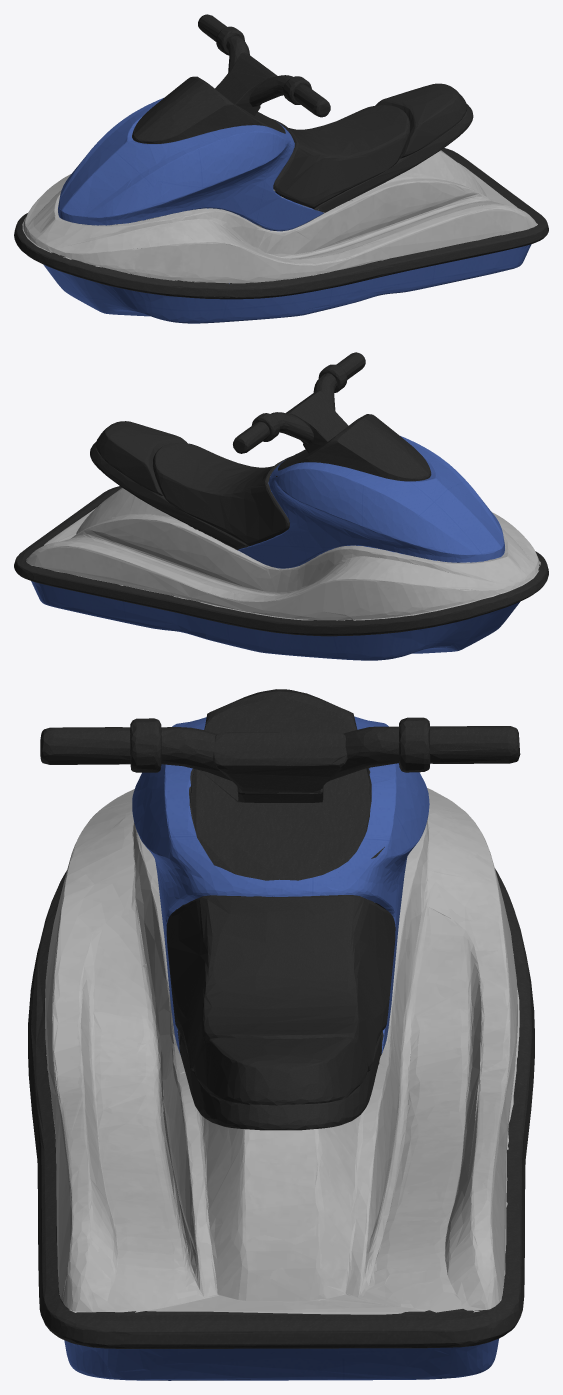
File: jetski_02.glb
The picture shows the model from 3 angles, top to bottom: view 1: azimuth 30°, elevation 25°; view 2: azimuth 150°, elevation 25°; view 3: azimuth 270°, elevation 25°; orthographic projection. The views are drawn at different scales.
Visible parts, largest first — view 1: material_gameasset.002_material_gameasset_Mat_1_0, material_gameasset.002_MaterialRubber_Floor_001_0, material_gameasset.002_Seat_gameasset_Mat_1_0, material_gameasset.002_material.003_gameasset_Mat_1_0, material_gameasset.002_material.005_gameasset_Mat_1_0, material_gameasset.002_material.002_gameasset_Mat_1_0; view 2: material_gameasset.002_material_gameasset_Mat_1_0, material_gameasset.002_MaterialRubber_Floor_001_0, material_gameasset.002_Seat_gameasset_Mat_1_0, material_gameasset.002_material.005_gameasset_Mat_1_0, material_gameasset.002_material.003_gameasset_Mat_1_0, material_gameasset.002_material.002_gameasset_Mat_1_0; view 3: material_gameasset.002_material_gameasset_Mat_1_0, material_gameasset.002_material.002_gameasset_Mat_1_0, material_gameasset.002_Seat_gameasset_Mat_1_0, material_gameasset.002_material.005_gameasset_Mat_1_0, material_gameasset.002_MaterialRubber_Floor_001_0, material_gameasset.002_material.003_gameasset_Mat_1_0.
Boxes of the visible parts, <box> form: material_gameasset.002_material_gameasset_Mat_1_0: <box>22,150,537,283</box>; material_gameasset.002_MaterialRubber_Floor_001_0: <box>43,98,531,323</box>; material_gameasset.002_Seat_gameasset_Mat_1_0: <box>272,83,473,212</box>; material_gameasset.002_material.003_gameasset_Mat_1_0: <box>14,148,548,299</box>; material_gameasset.002_material.005_gameasset_Mat_1_0: <box>132,14,330,143</box>; material_gameasset.002_material.002_gameasset_Mat_1_0: <box>227,200,503,258</box>; material_gameasset.002_material_gameasset_Mat_1_0: <box>26,488,540,620</box>; material_gameasset.002_MaterialRubber_Floor_001_0: <box>31,436,520,660</box>; material_gameasset.002_Seat_gameasset_Mat_1_0: <box>90,421,291,550</box>; material_gameasset.002_material.005_gameasset_Mat_1_0: <box>233,352,431,481</box>; material_gameasset.002_material.003_gameasset_Mat_1_0: <box>14,486,548,636</box>; material_gameasset.002_material.002_gameasset_Mat_1_0: <box>62,538,333,596</box>; material_gameasset.002_material_gameasset_Mat_1_0: <box>45,788,519,1314</box>; material_gameasset.002_material.002_gameasset_Mat_1_0: <box>93,908,470,1312</box>; material_gameasset.002_Seat_gameasset_Mat_1_0: <box>166,895,395,1130</box>; material_gameasset.002_material.005_gameasset_Mat_1_0: <box>40,689,520,896</box>; material_gameasset.002_MaterialRubber_Floor_001_0: <box>64,716,498,1380</box>; material_gameasset.002_material.003_gameasset_Mat_1_0: <box>28,868,534,1348</box>.
Bounding box in the file's own units: 2.68 × 1.21 × 1.24.
Materials: 6 (6 with a texture image).
